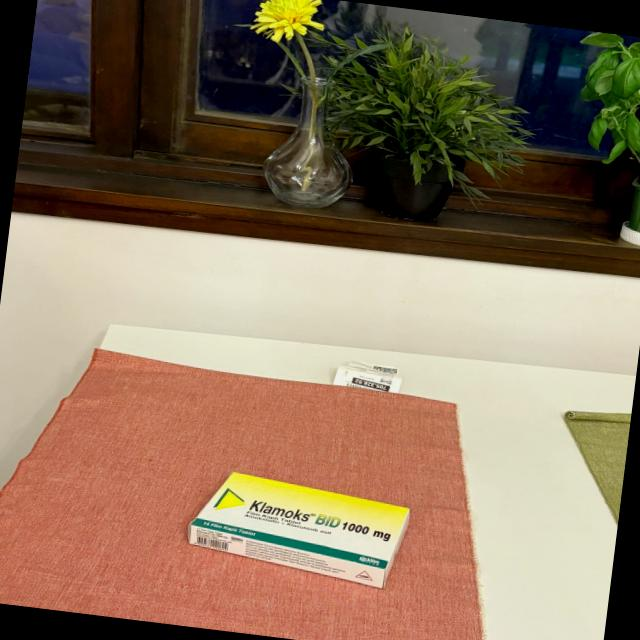good_package: (182, 466, 416, 596)
